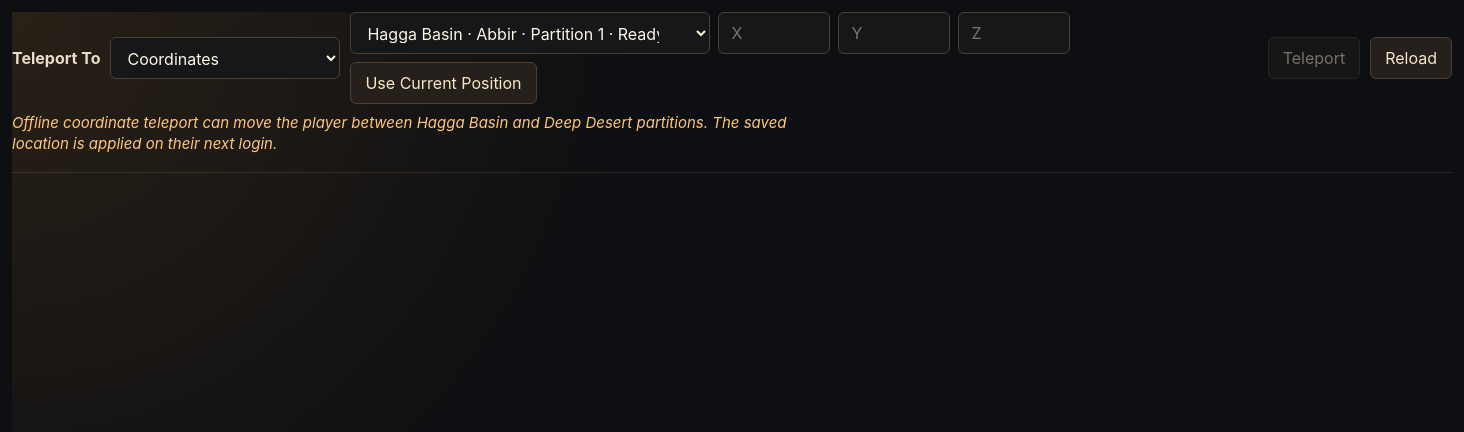
Test: PlayerTeleportControls › moves an offline player to coordinates in the selected map partition
The width and height of the screenshot is (1464, 432).
Expected: the dropdown named "Teleport destination map and partition" shows "Hagga Basin · Abbir · Partition 1 · Ready", [350, 12, 710, 54]
Type "100" into the field named "Teleport X coordinate" at (774, 33), box [718, 12, 830, 54]
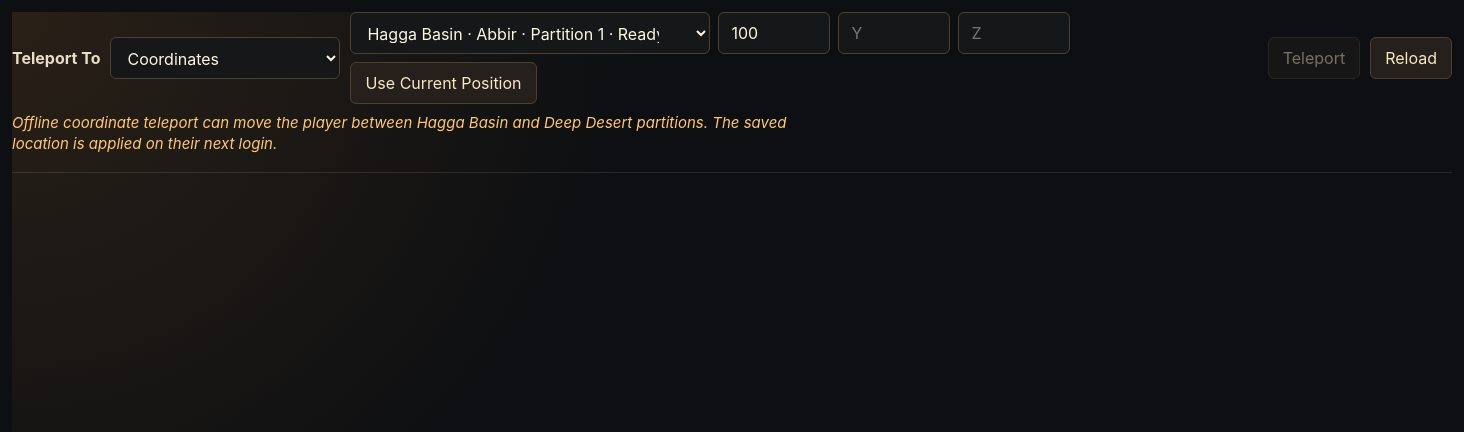
Type "200" into the field named "Teleport Y coordinate" at (894, 33), box [838, 12, 950, 54]
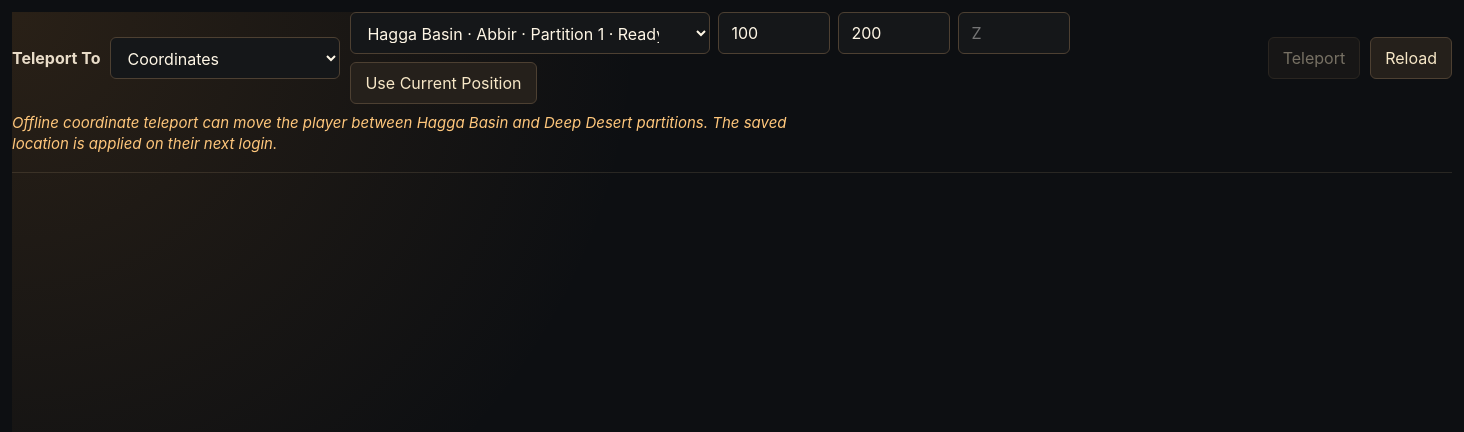
Type "300" into the field named "Teleport Z coordinate" at (1014, 33), box [958, 12, 1070, 54]
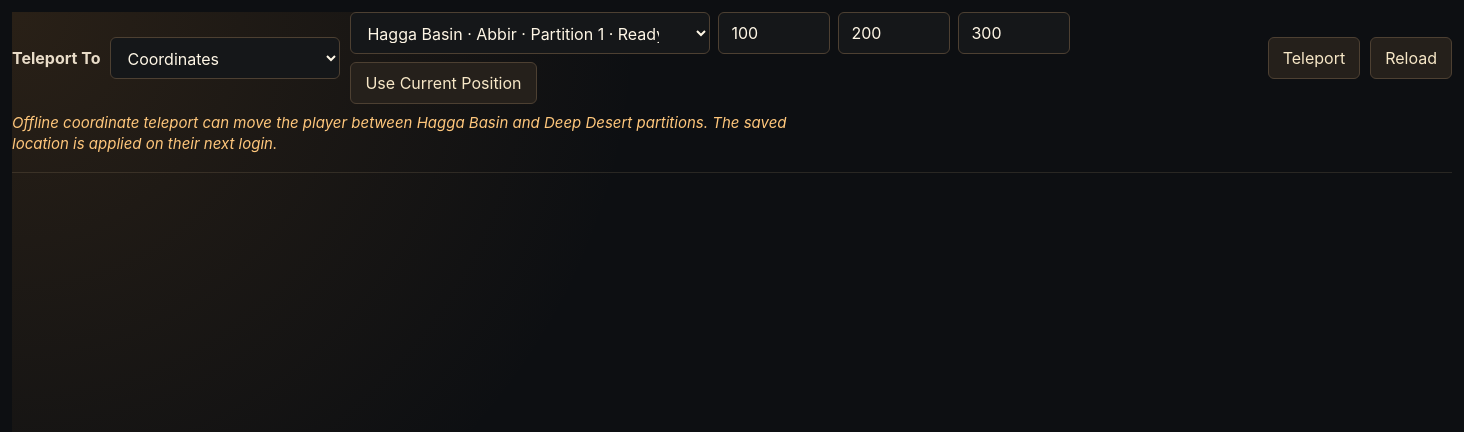
Click the button "Teleport" at (1314, 58), box [1268, 37, 1360, 79]
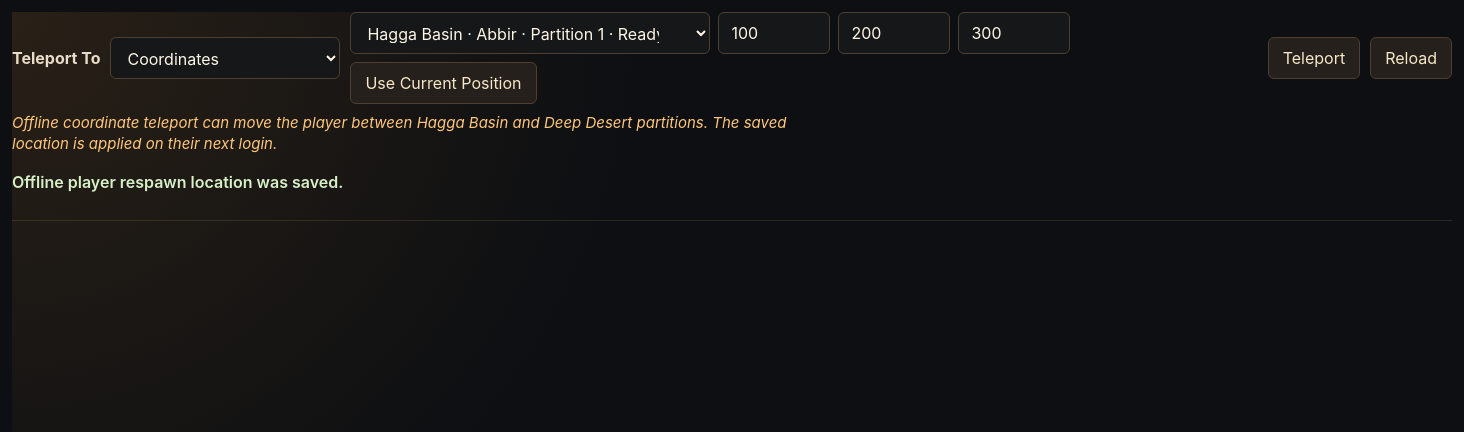
Result: the text "Offline player respawn location was saved." is shown at [12, 172, 343, 192]
